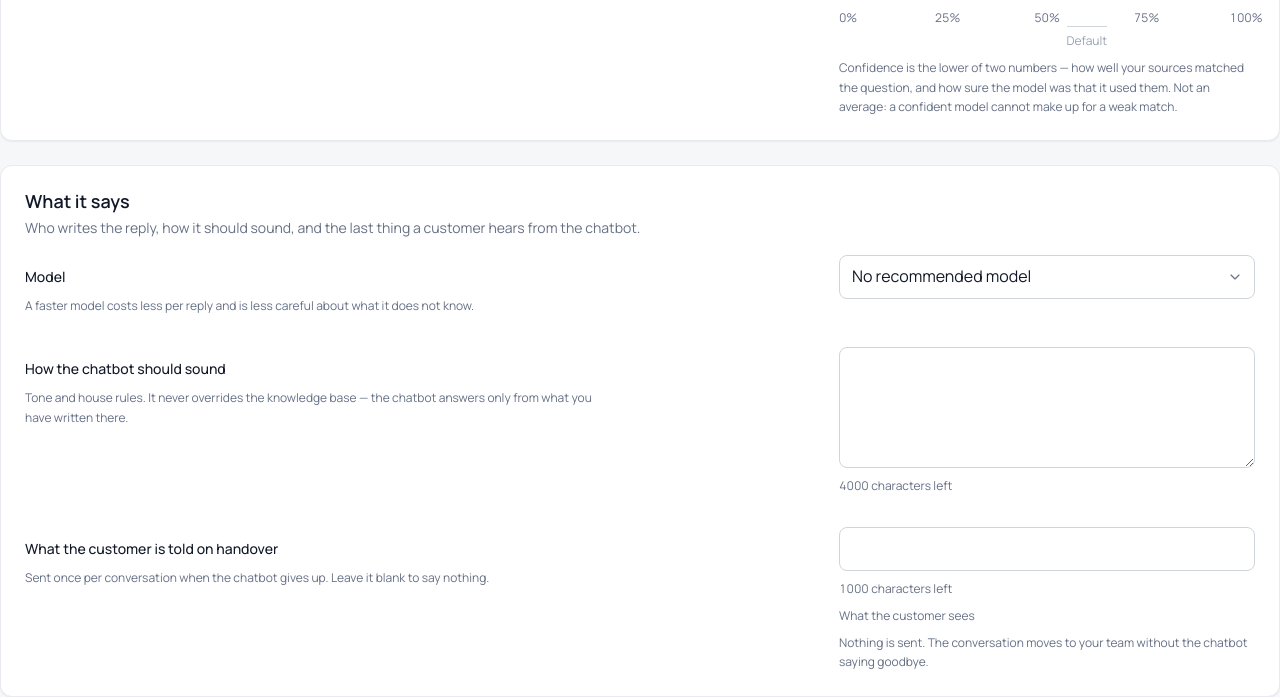
the saved-together fields › puts every field back where it was when the change is cancelled
(page scrolled)
Type "Be brief." into the text box labelled "How the chatbot should sound" at (1047, 408), box [839,347,1255,468]
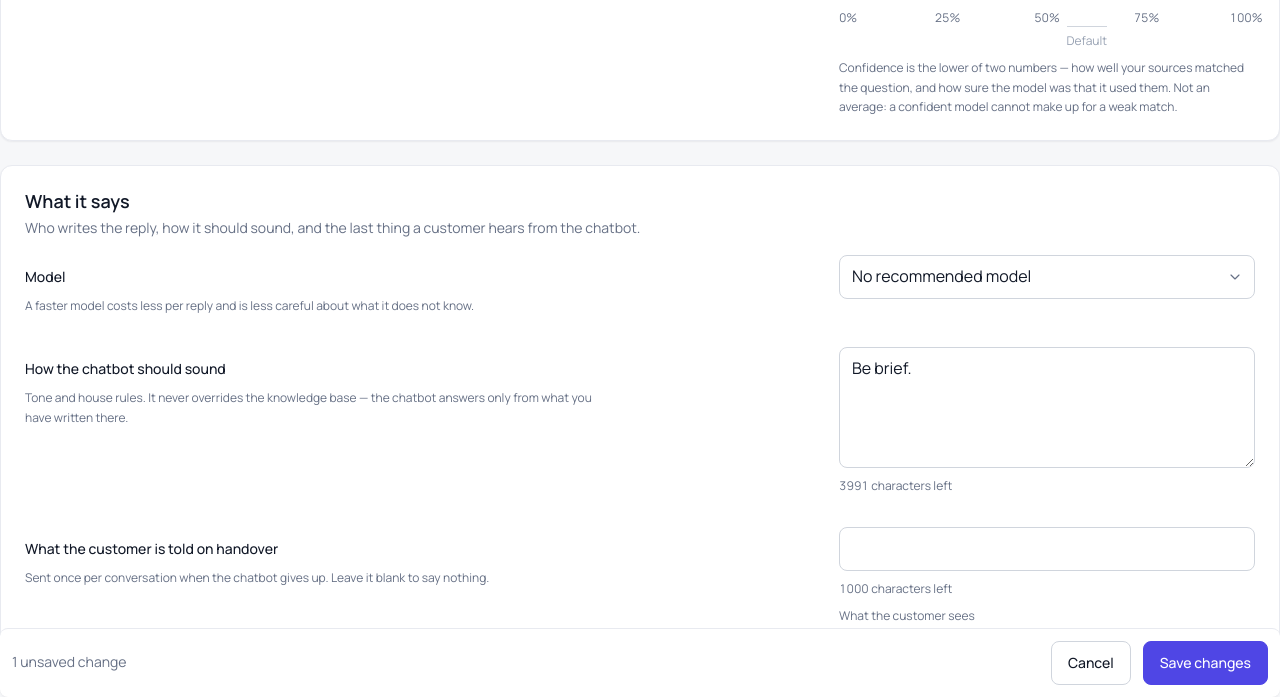
Click the button "Cancel" at (1091, 663), box [1051,641,1131,685]
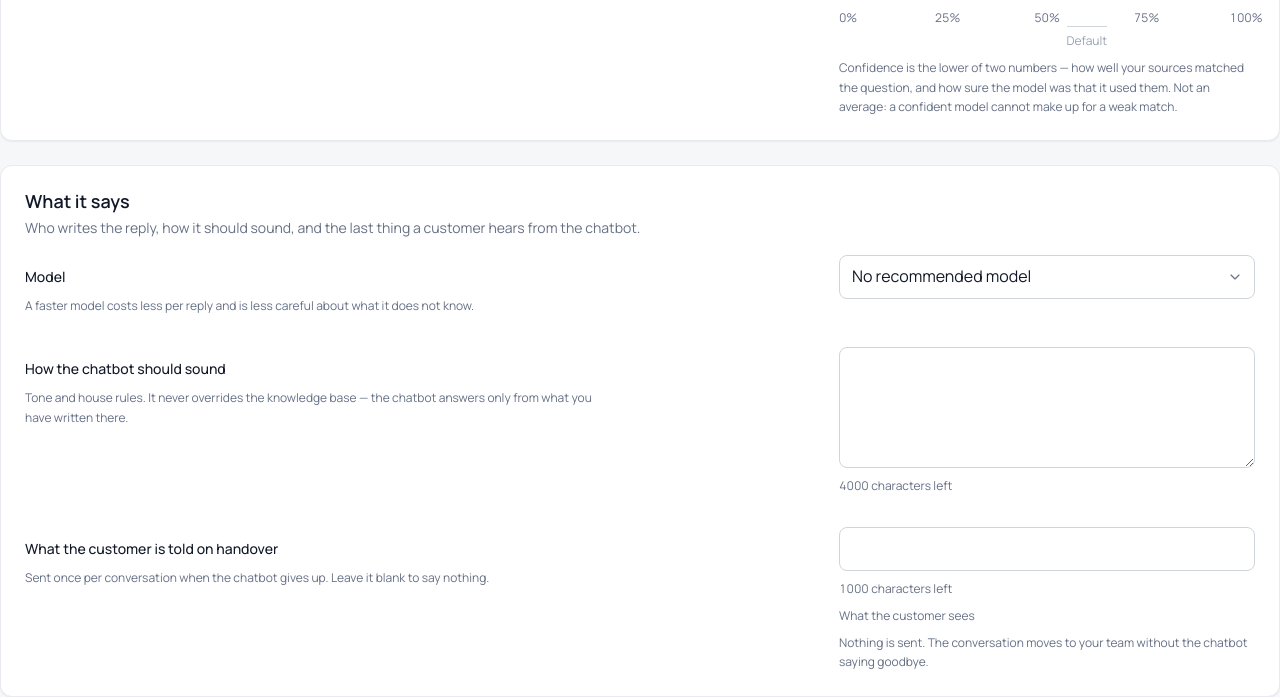
Result: the text box labelled "How the chatbot should sound" is empty at [839,347,1255,468]
